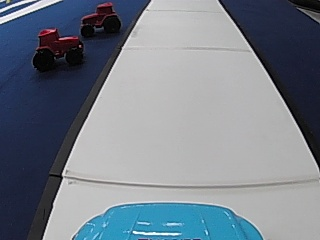tractor: (30, 24, 85, 71), (78, 2, 121, 36)
